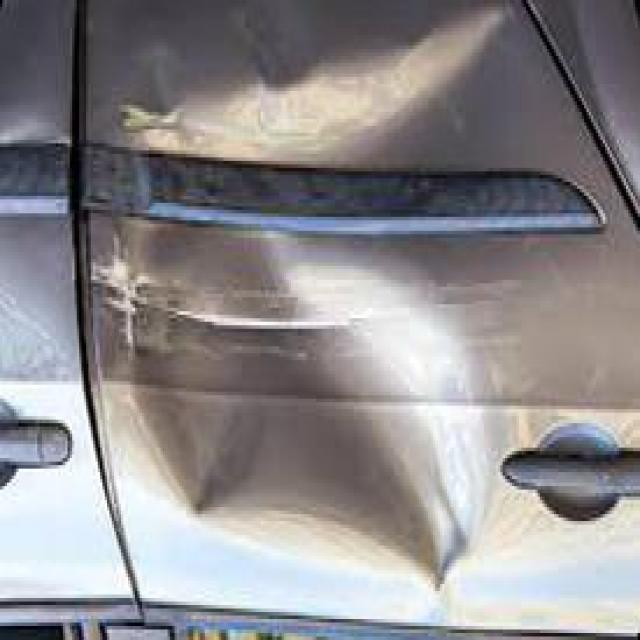dent: (98, 207, 498, 622)
